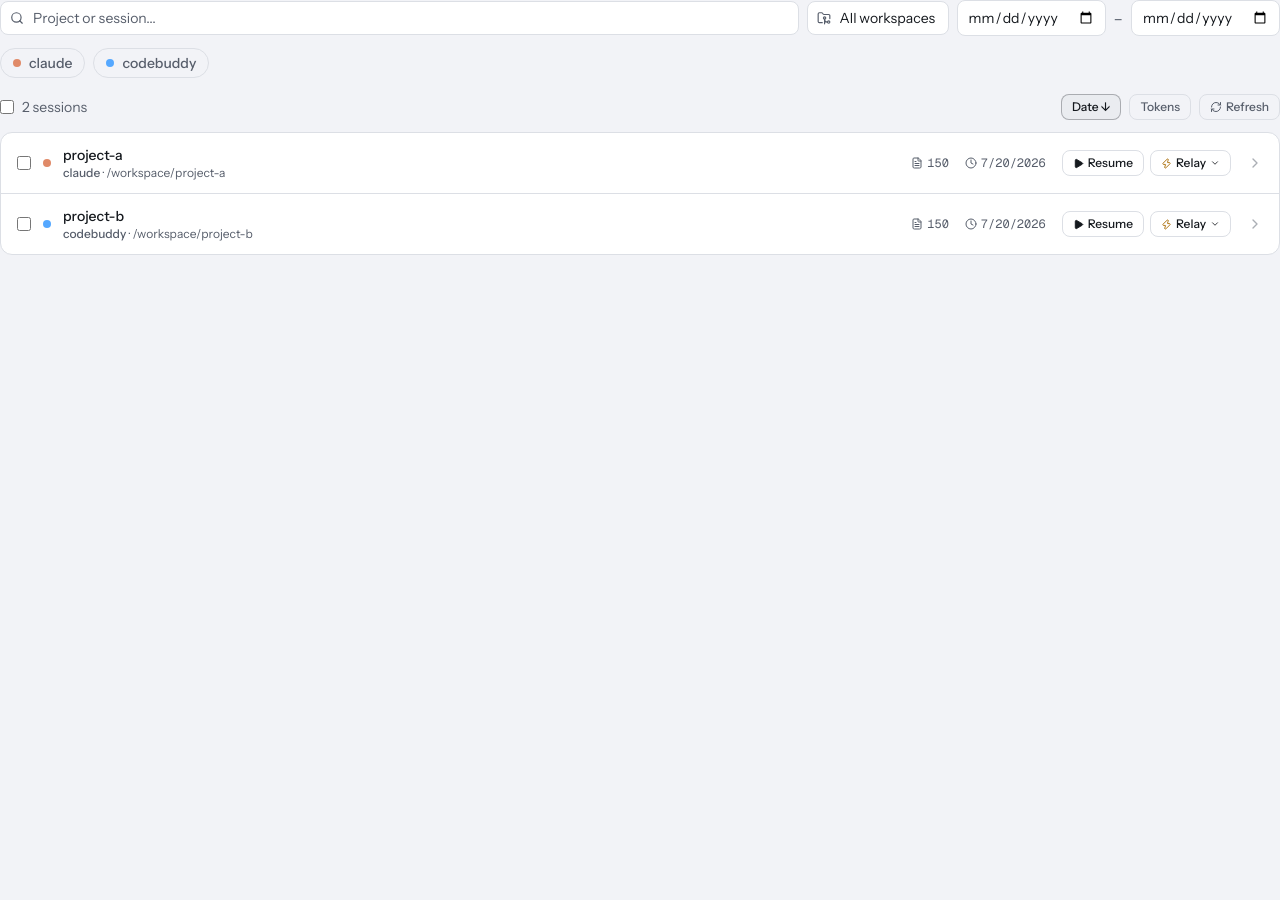
SessionsPage batch delete › selecting sessions and confirming deletes only the selected ones
expect the text "2 sessions" is shown: met, box [0,97,87,117]
Click the checkbox named "Select session session-a". click: [24, 163]
box: [17,156,31,170]
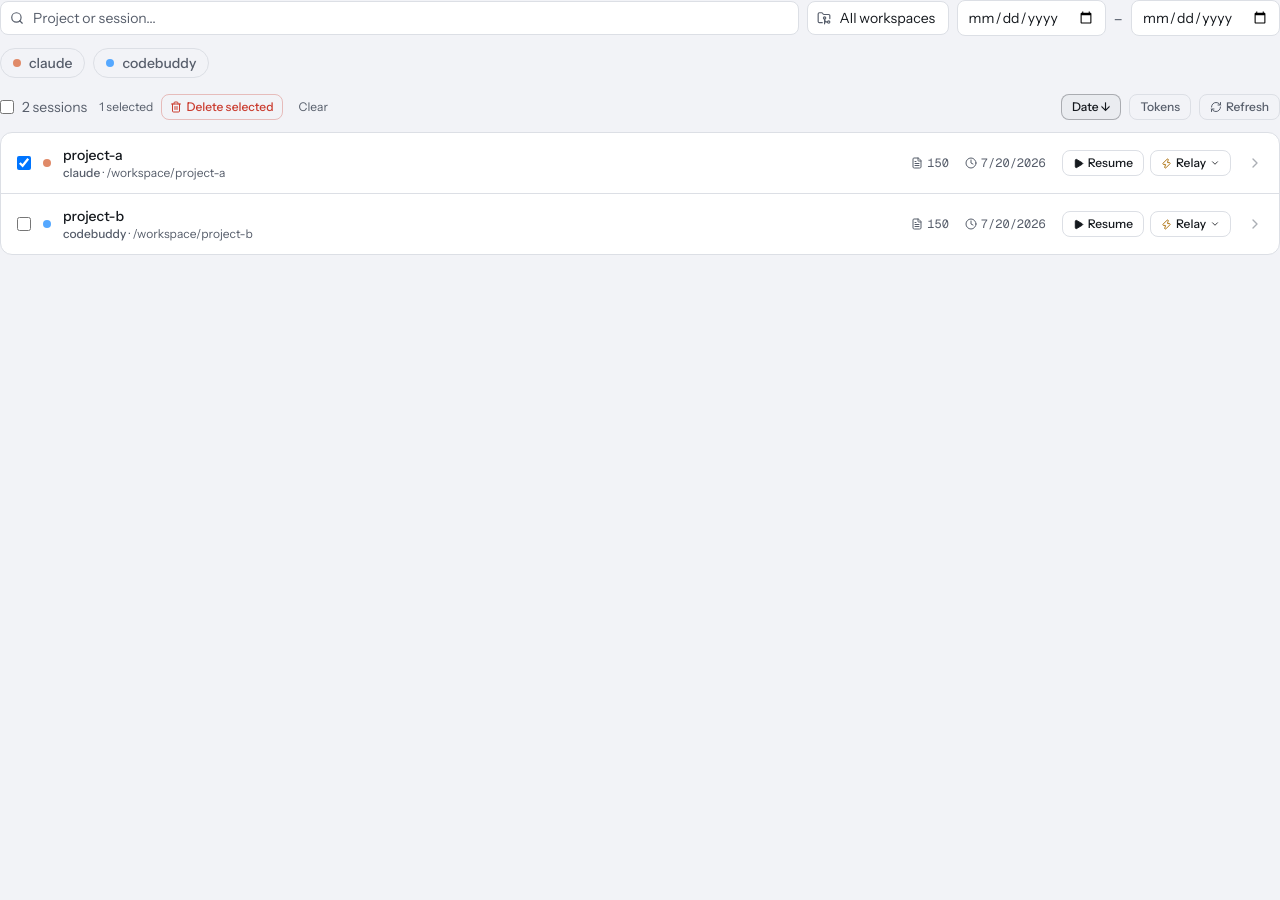
expect the text "1 selected" is shown: met, box [99,99,153,115]
Click the button "Delete selected". click: [222, 107]
box: [161,94,282,120]
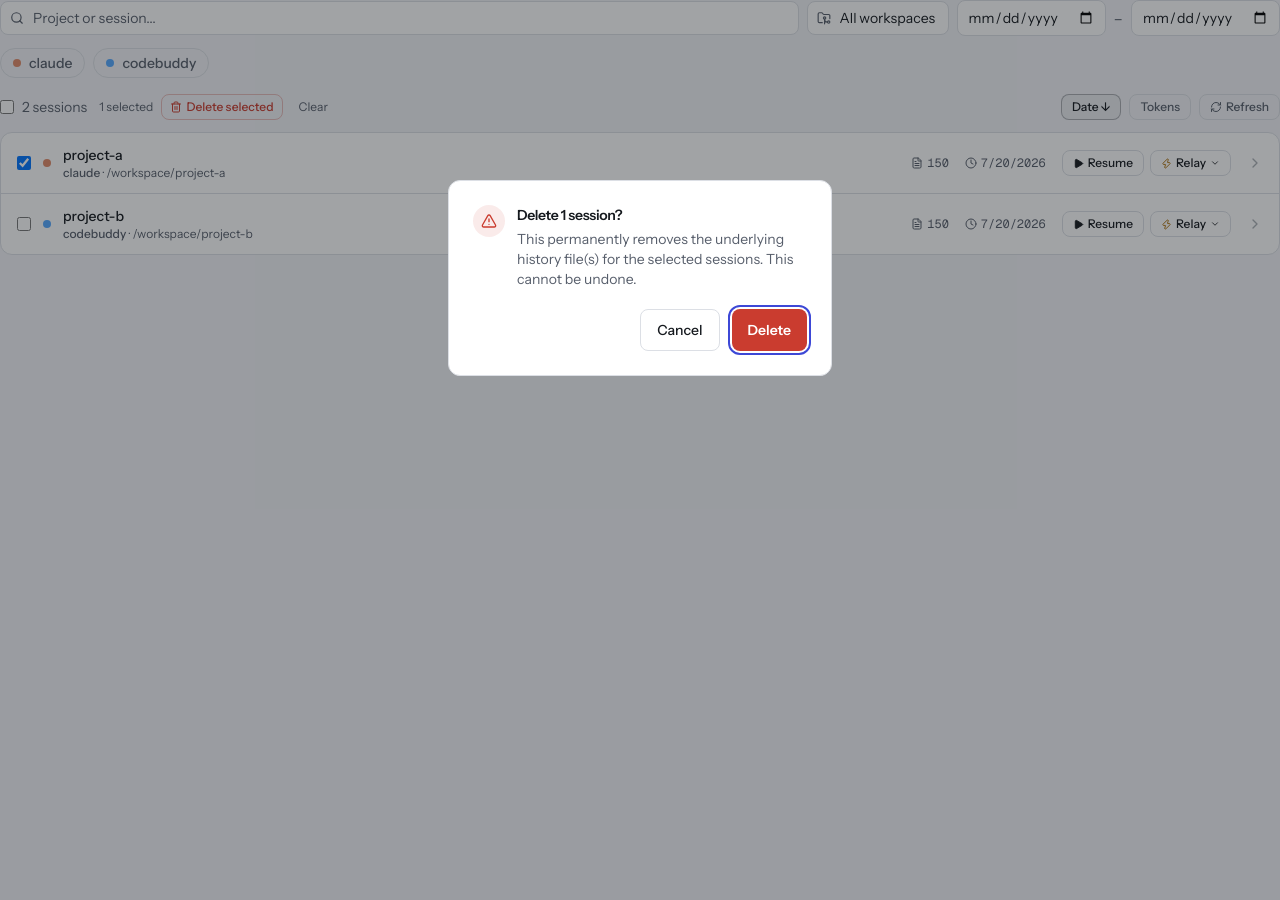
Click the button "Delete". click: [769, 330]
box: [732,309,807,351]
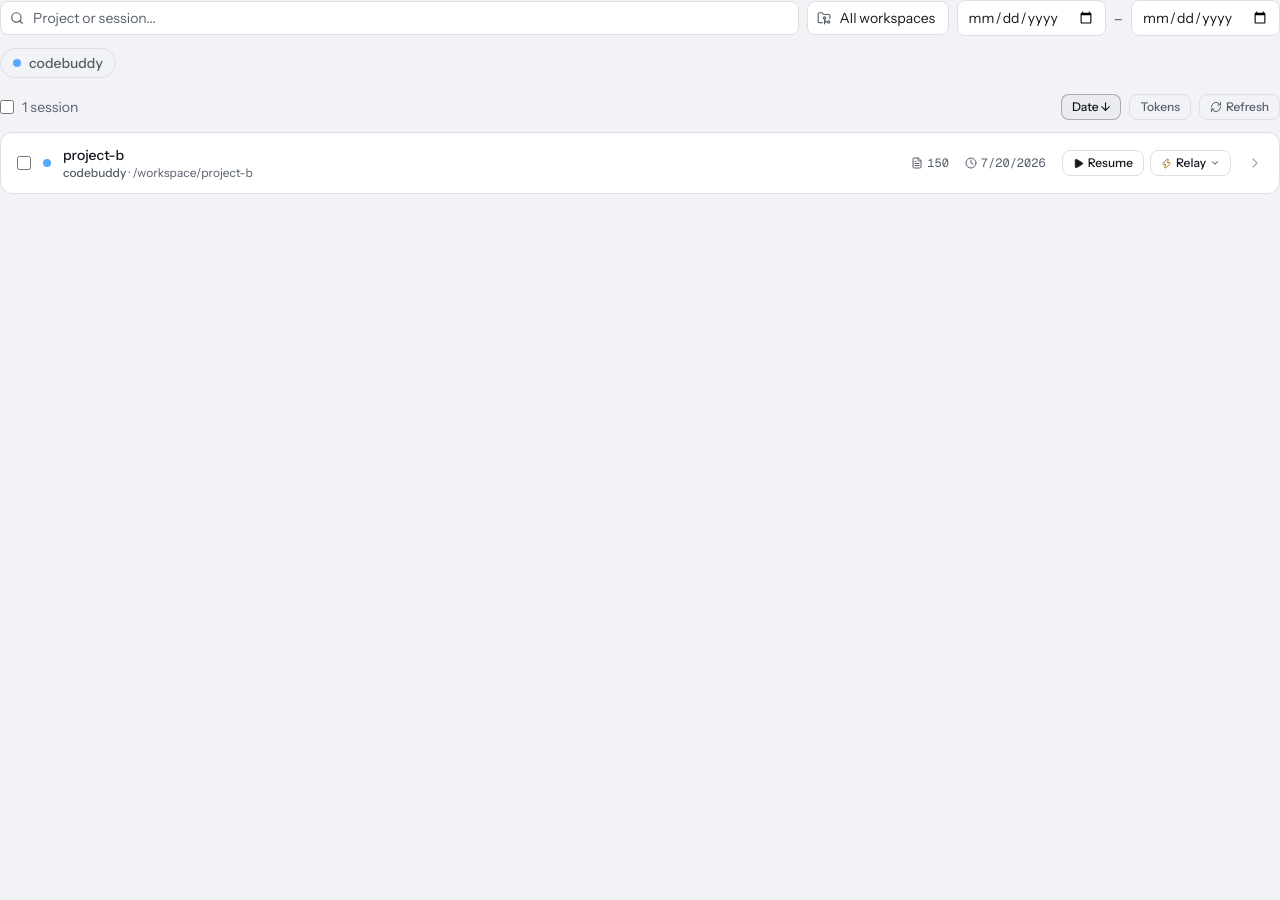
expect the text "/workspace/project-b" is shown: met, box [132,165,253,180]
expect the text "1 session" is shown: met, box [0,97,78,117]
expect the button "/workspace/project-a" is gone: met
